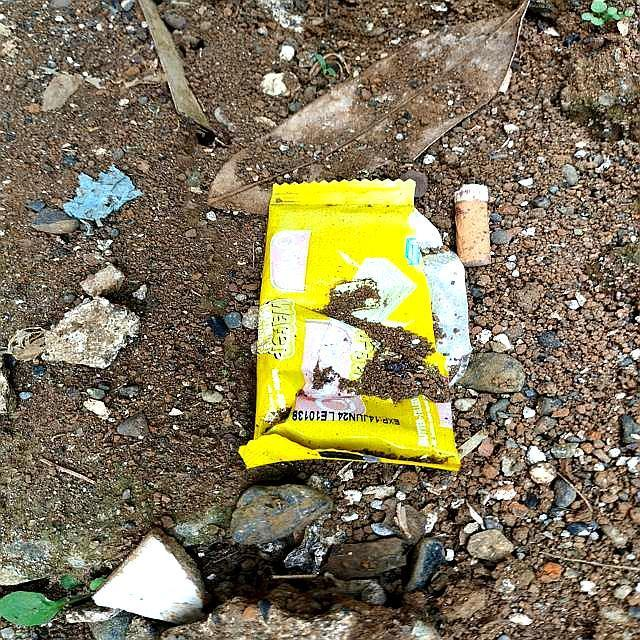Non-biodegradable: (240, 176, 473, 474)
